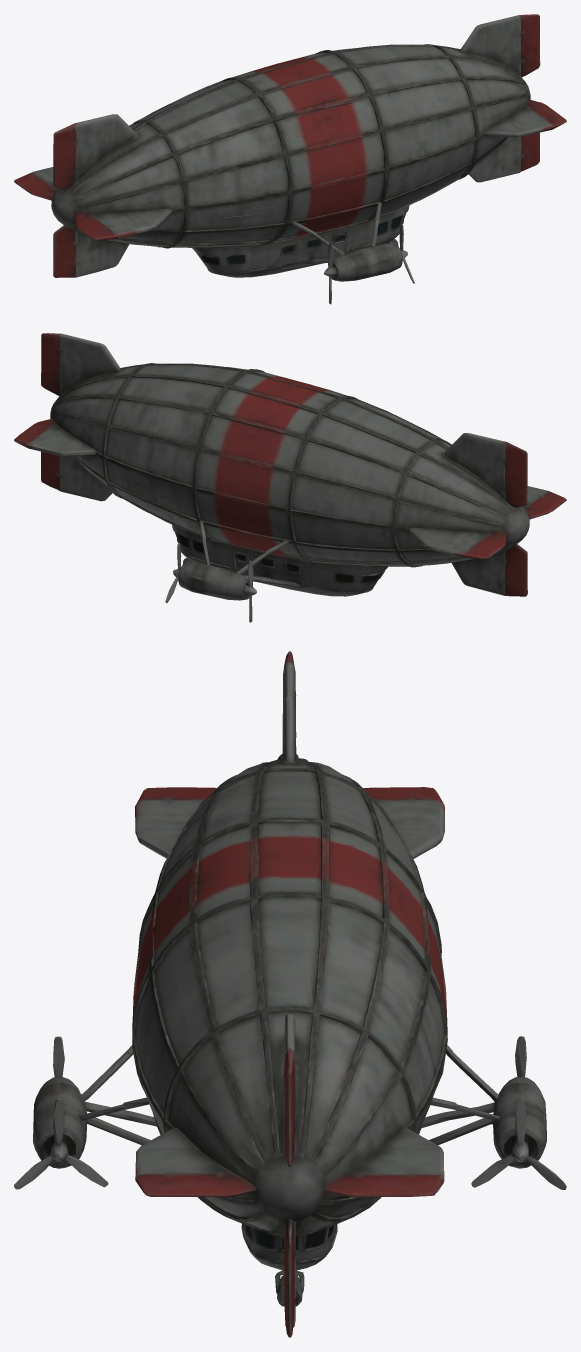
The model's file is patrol_airship_b.glb.
3 renders of one model, top to bottom at view 1: azimuth 30°, elevation 25°; view 2: azimuth 150°, elevation 25°; view 3: azimuth 270°, elevation 25°, orthographic. The views are drawn at different scales.
Parts seen in each view (by area): view 1: main; view 2: main; view 3: main.
Part boxes in pixels (x1,y1,x2,y2): main: (14,14,566,304); main: (14,333,566,622); main: (14,651,566,1337).
Size of the model in its own units: 9.51 by 3.87 by 5.24.
Materials: 1 (1 with a texture image).
